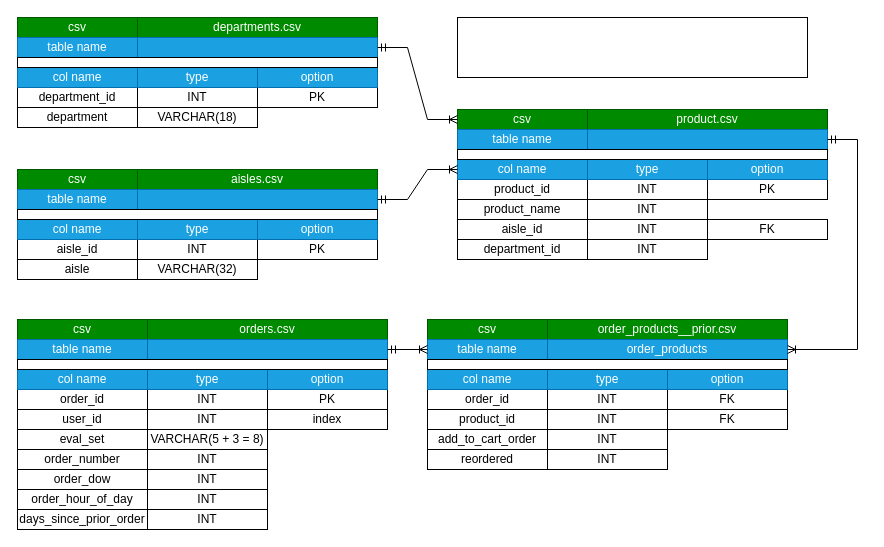
This 884x547 diagram has some shape labels left out. The centre of each missing label's shape, as x and y in pixels:
"aisles" belongs at [257,199].
"departments" belongs at [257,47].
"orders" belongs at [267,349].
"products" belongs at [707,139].
"데이터 베이스 모델링" belongs at [632,47].
